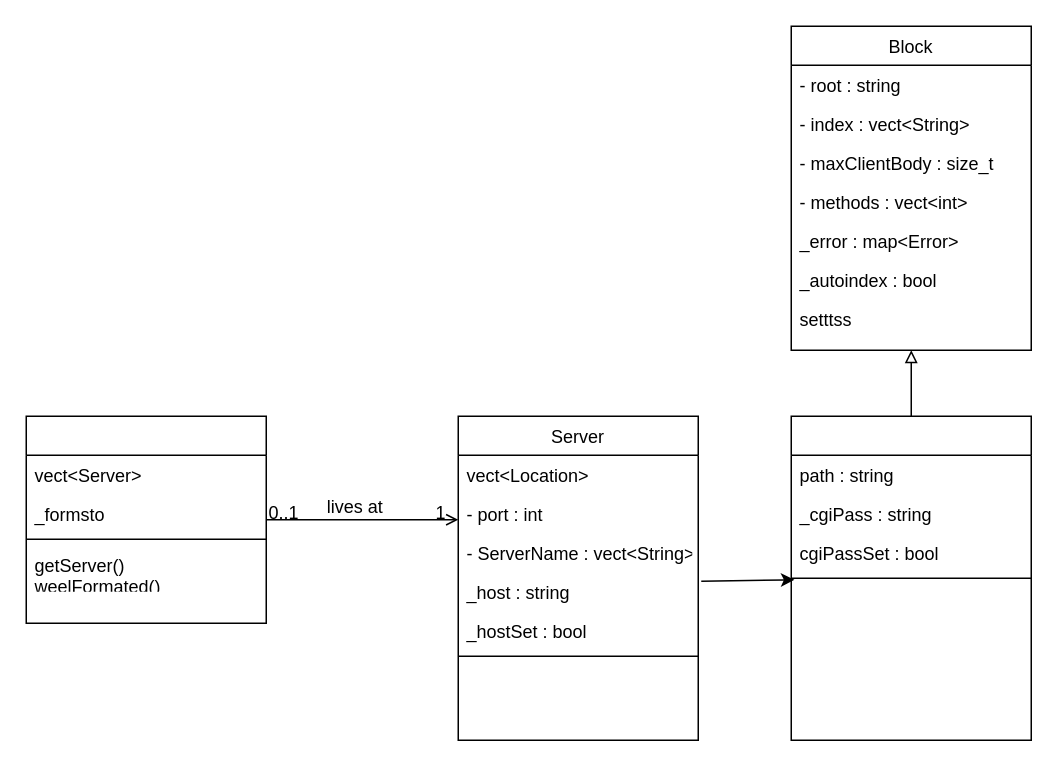
The diagram is 1058 pixels wide and 767 high, and some of its shapes have lost their labels. Each missing label, with the box of its shape:
Config: (25, 415, 266, 623)
Location: (790, 415, 1031, 740)
